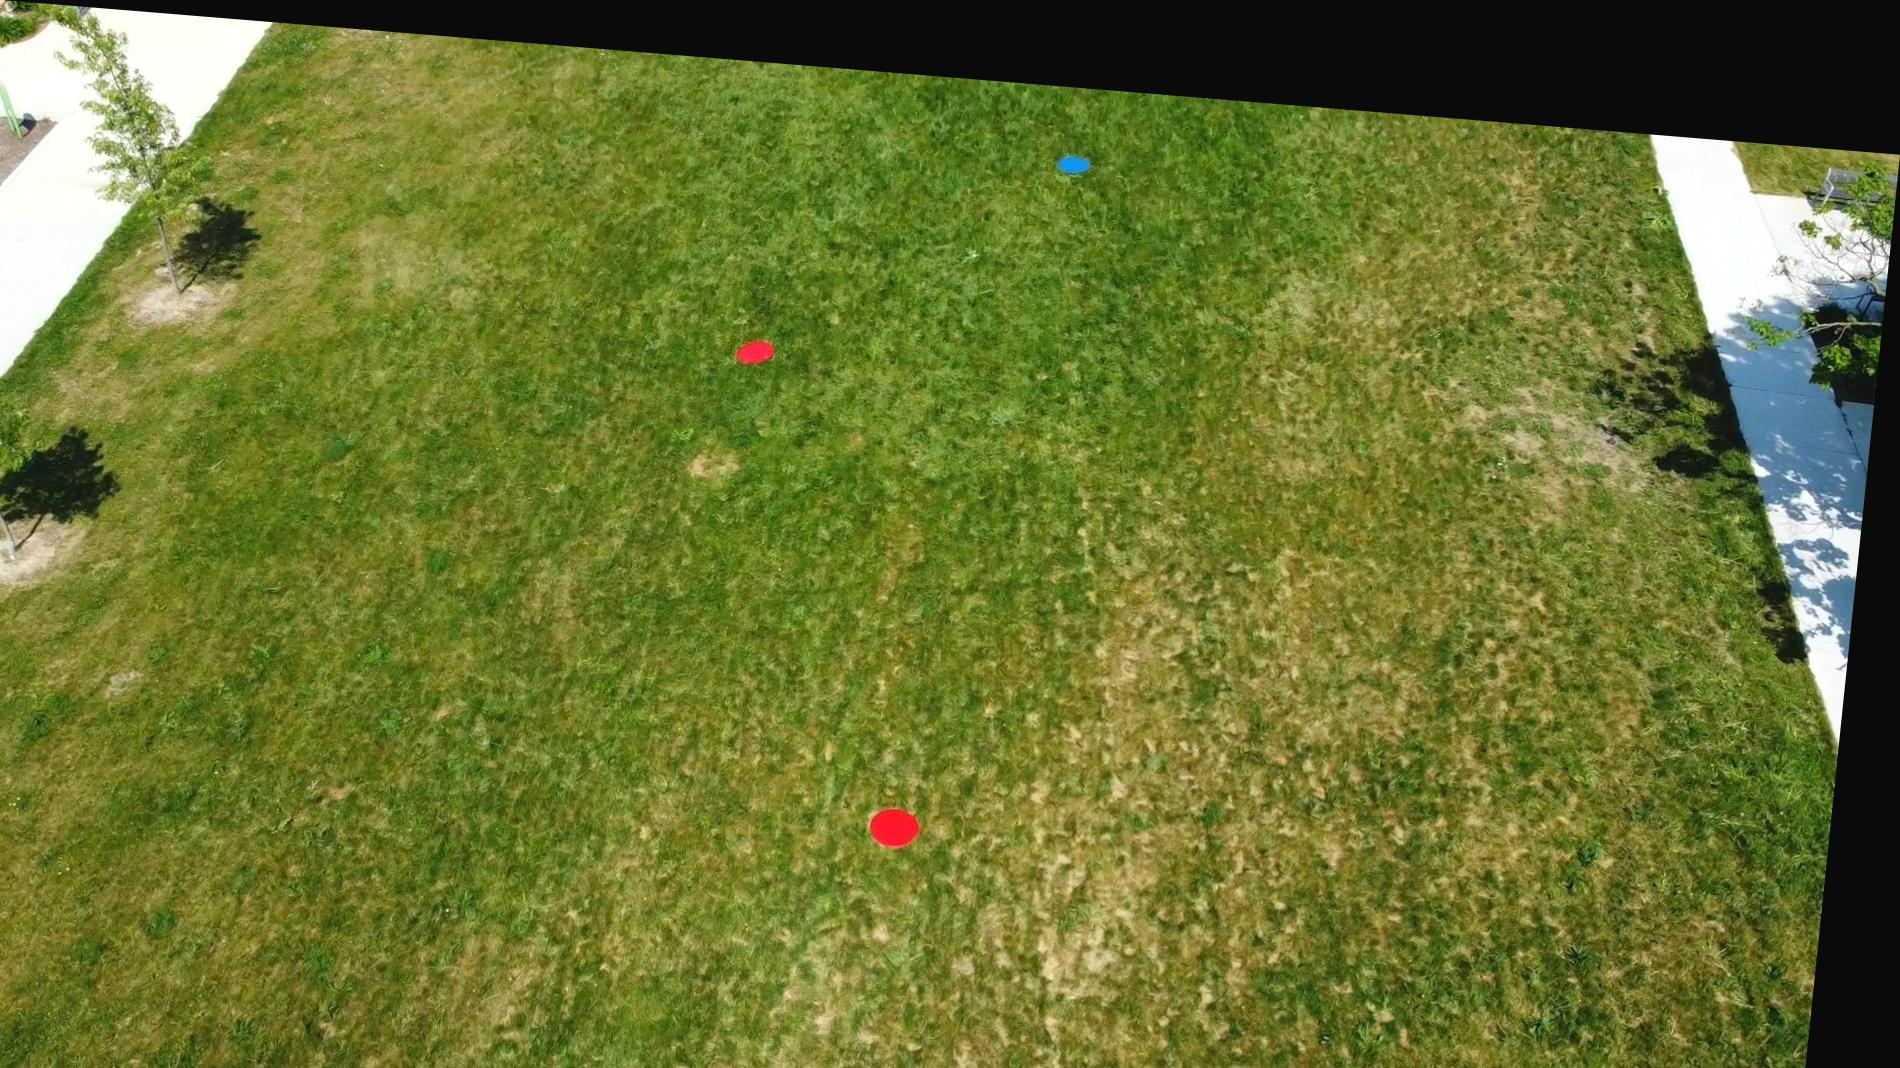Blue: (1054, 134, 1097, 162)
Red: (882, 787, 941, 834), (739, 325, 787, 358)
